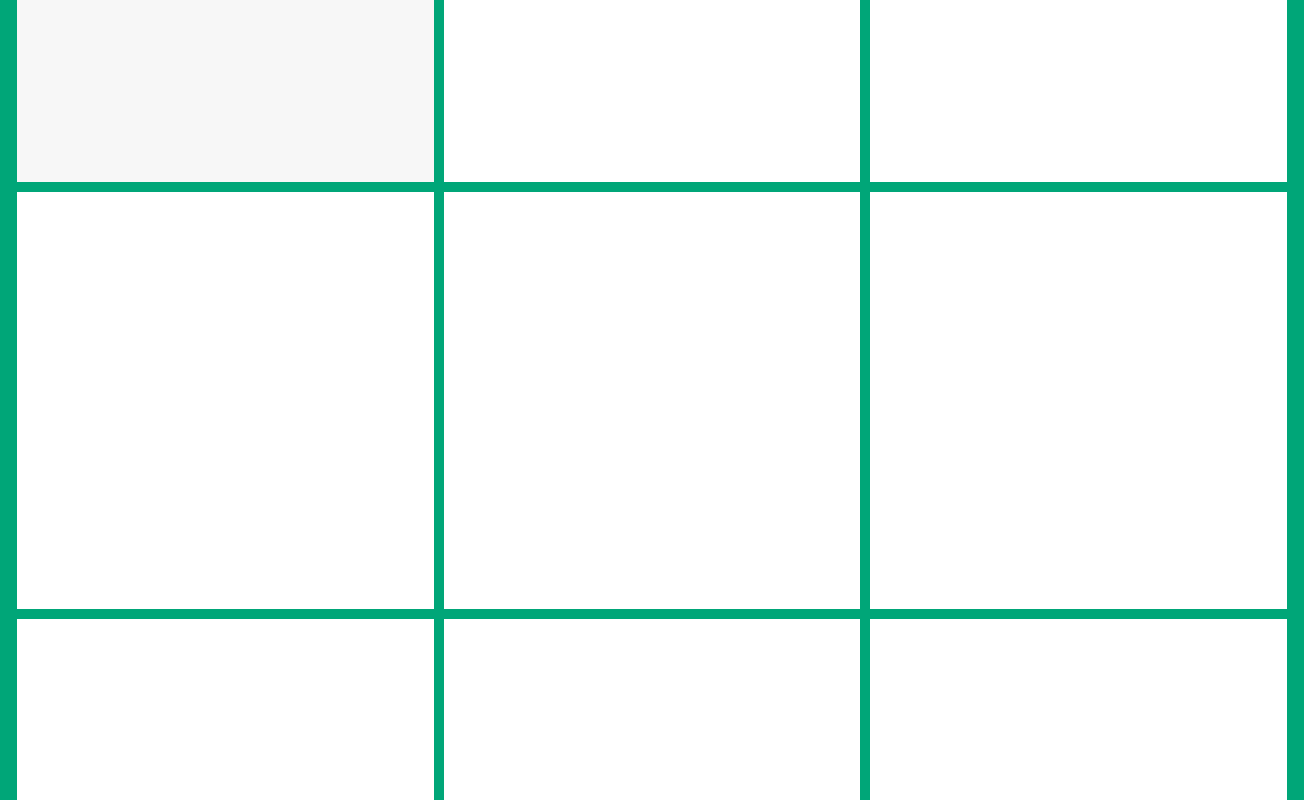
TicTacToe component › When victory by player X (middle game), game status should switch to "X wins!"
(page scrolled)
Click the 4th button: [225, 400] box [12,187,439,614]
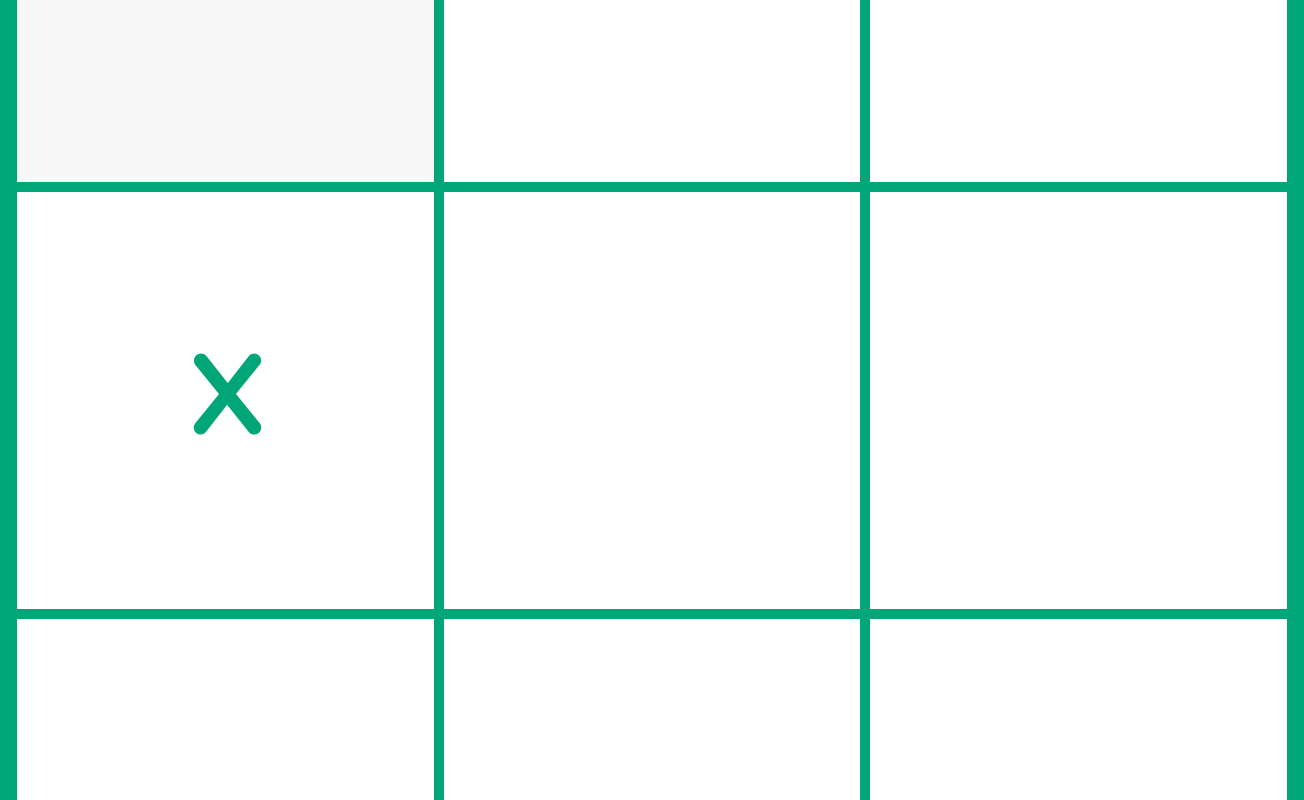
Click the 5th button: [652, 400] box [439,187,865,614]
(page scrolled)
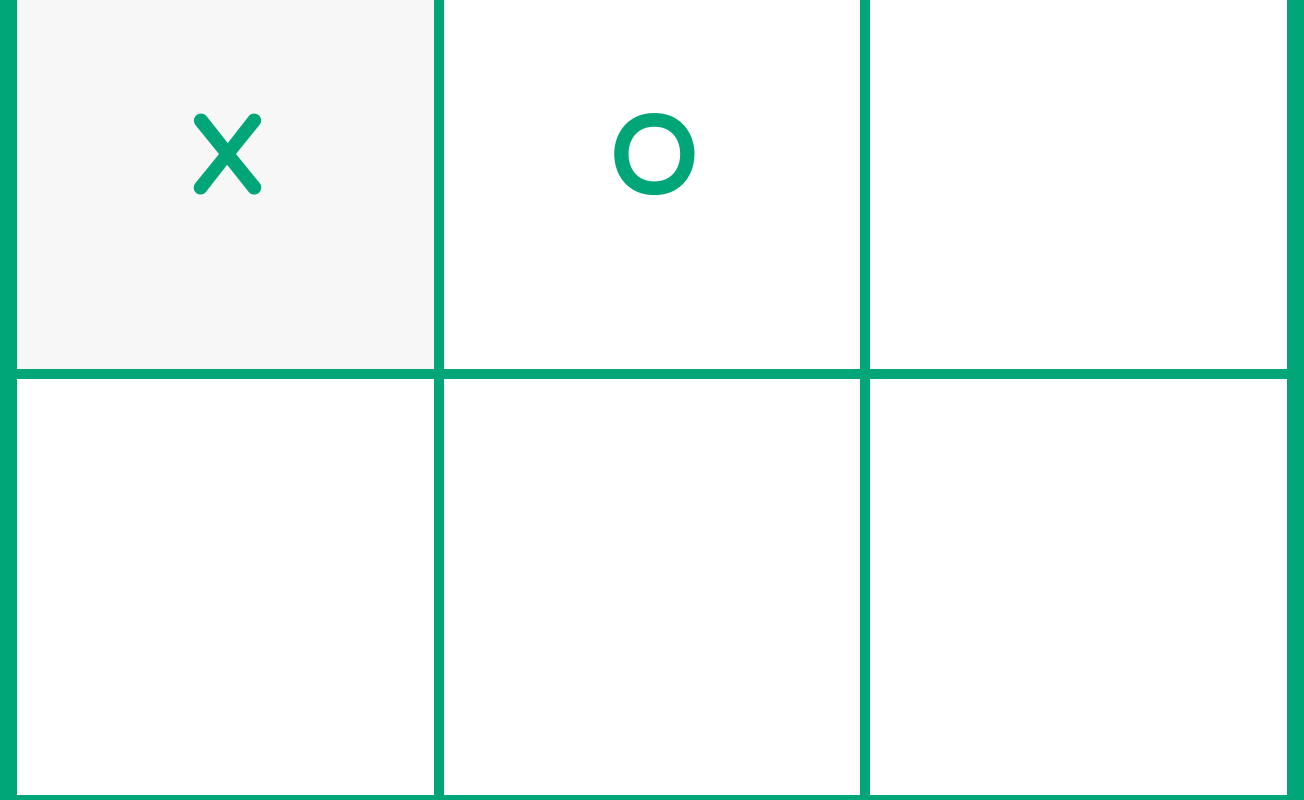
Click the 4th button: [225, 587] box [12,374,439,799]
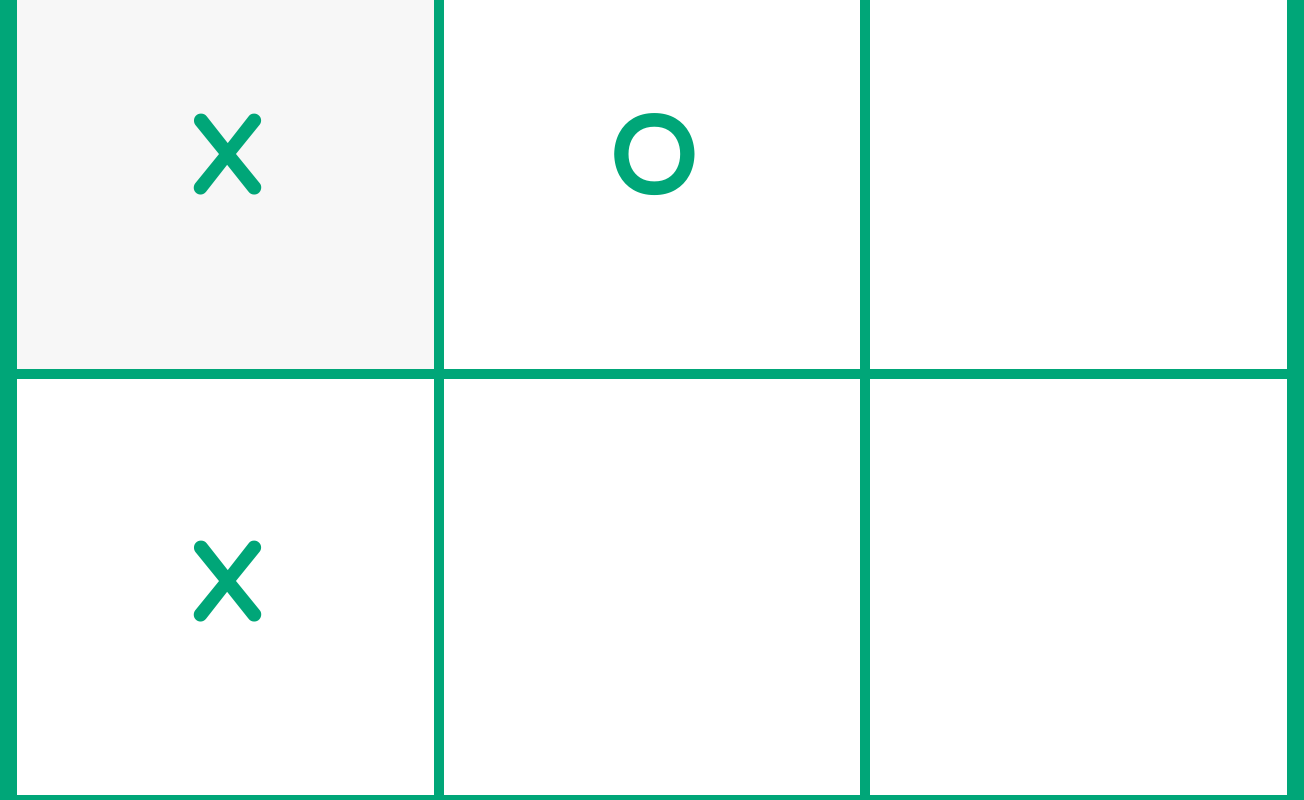
Click the 5th button: [652, 587] box [439,374,865,799]
(page scrolled)
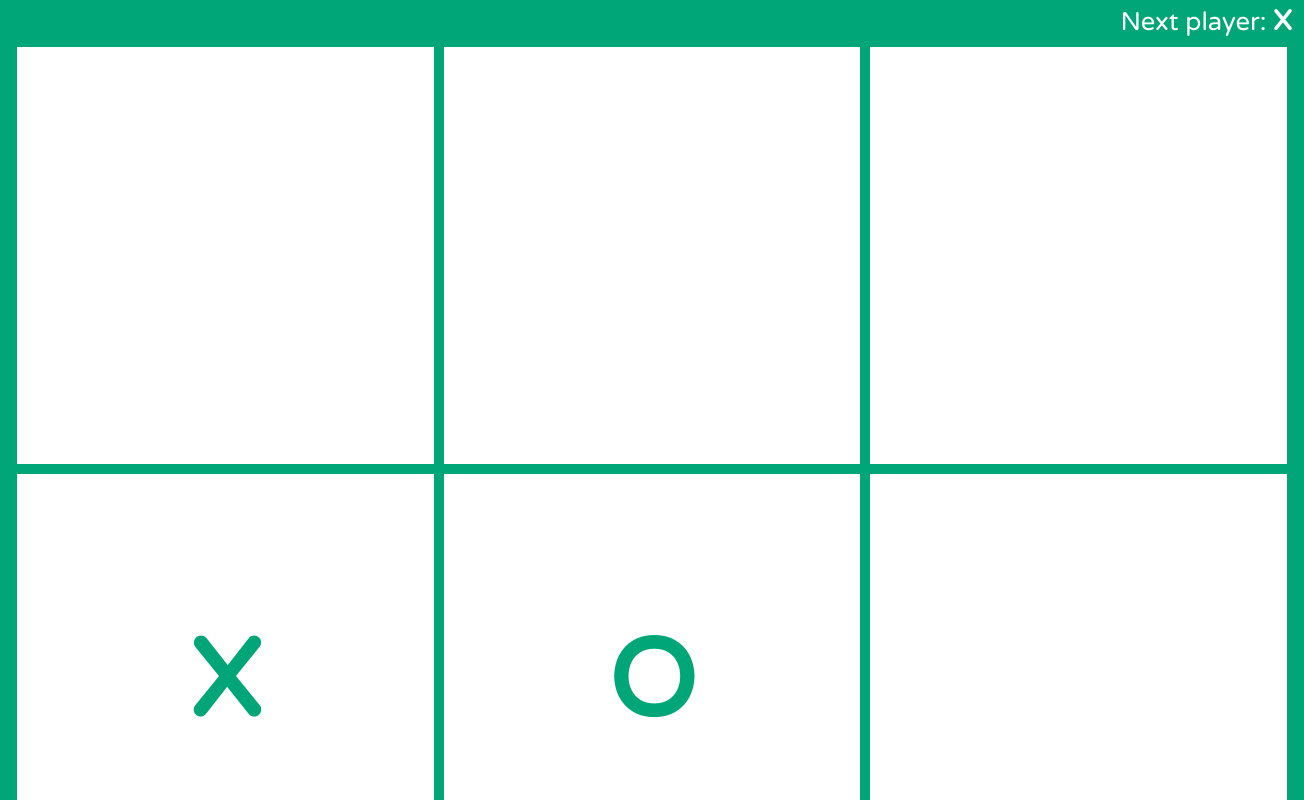
Click the 1st button: [225, 256] box [12,42,439,469]
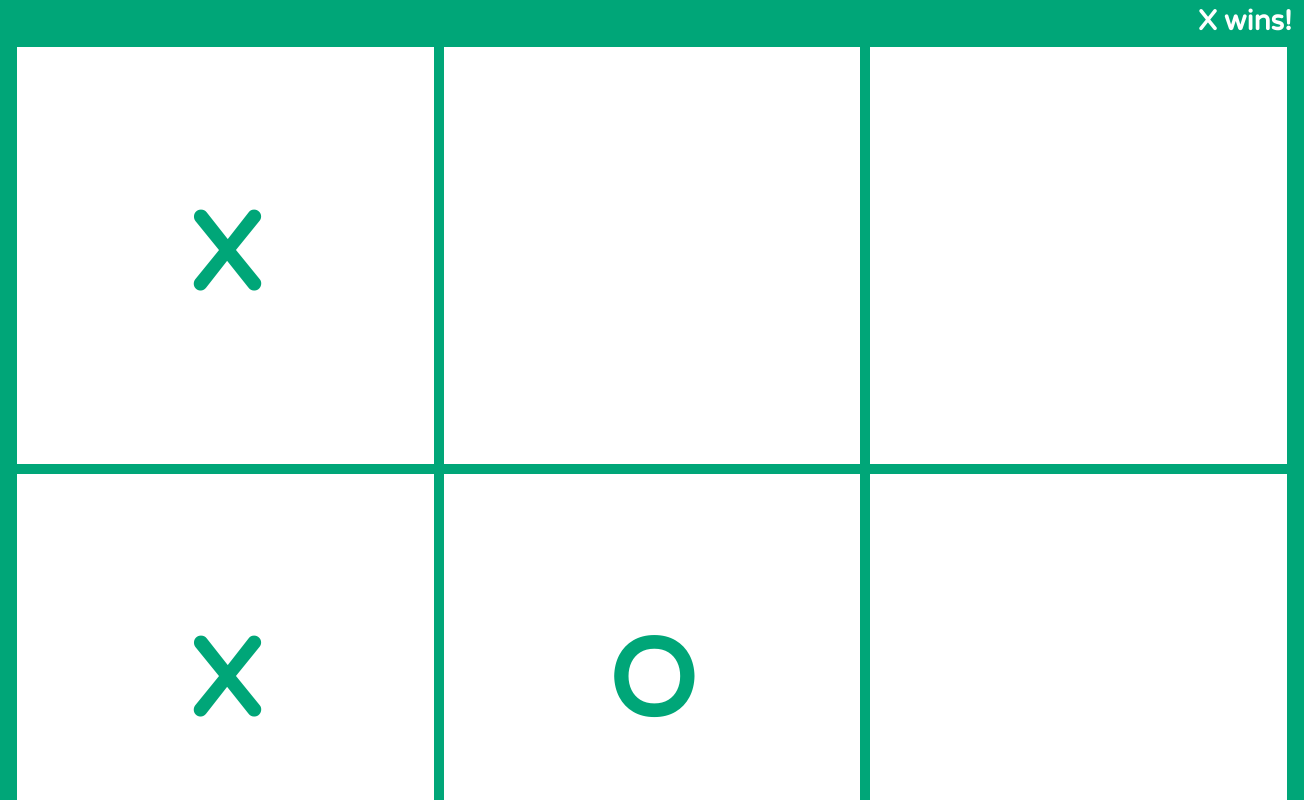
Expected: the text "X wins!" is shown, [1198,4,1292,38]
